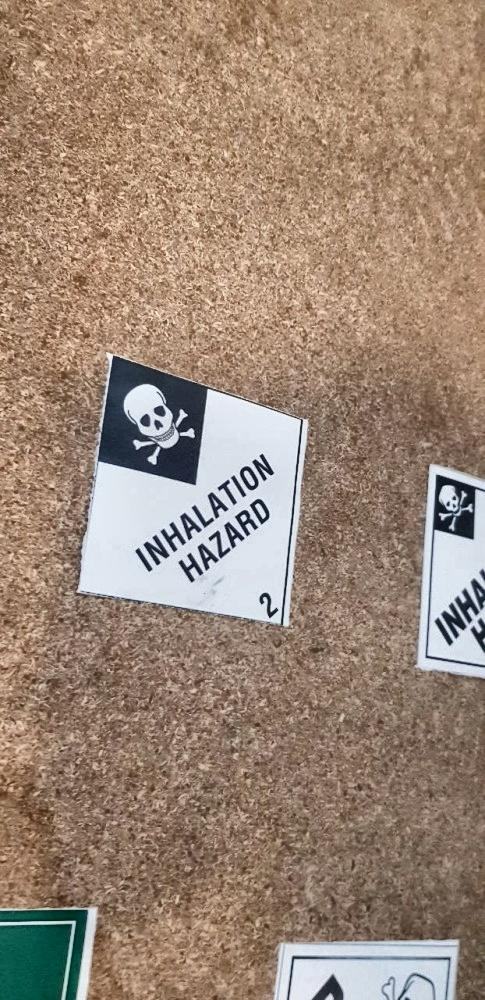poison: (77, 352, 307, 628), (414, 469, 485, 675)
